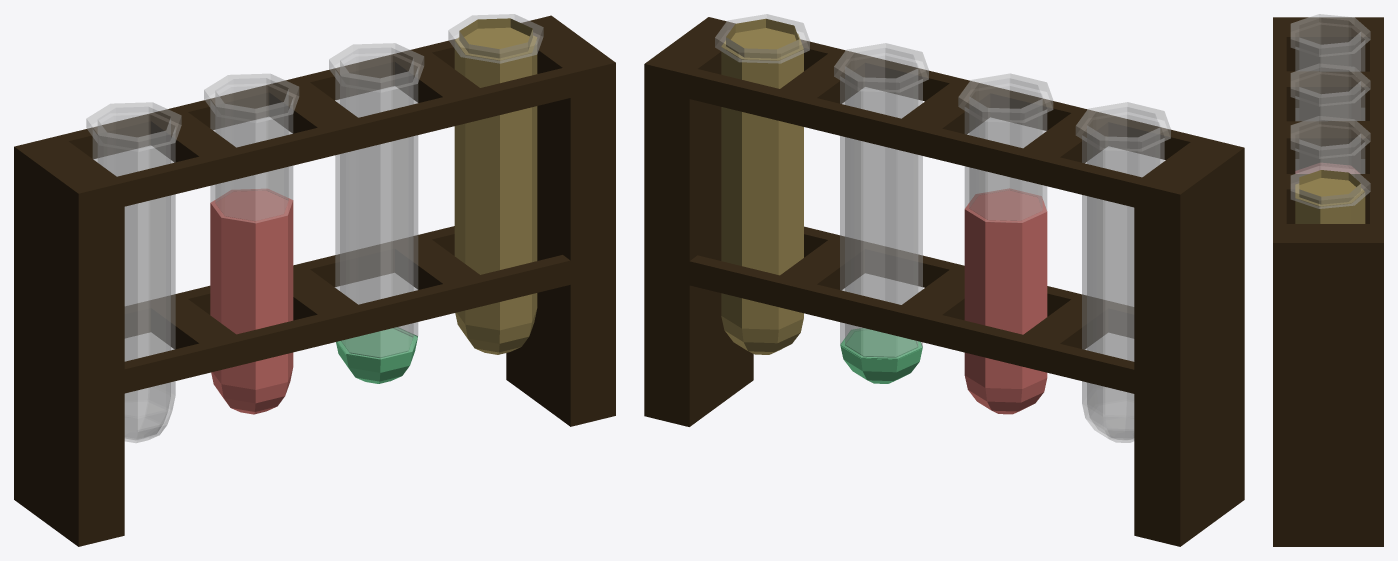
The model's file is probetas pequeñas.fbx.
3 views of the same model, side by side, from view 1: azimuth 30°, elevation 25°; view 2: azimuth 150°, elevation 25°; view 3: azimuth 270°, elevation 25° (orthographic). The views are drawn at different scales.
Visible parts, largest first — view 1: estanteria, tubo02, tubo03, tubo01, tubo04, liquido rojo, liquido verde, liquido marron; view 2: estanteria, tubo03, tubo02, tubo01, tubo04, liquido rojo, liquido verde, liquido marron; view 3: estanteria, tubo03, tubo04, tubo02, tubo01, liquido marron, liquido rojo.
Part boxes in pixels (bbox=[...]): estanteria: bbox=[14, 15, 615, 546]; tubo02: bbox=[329, 43, 424, 383]; tubo03: bbox=[204, 73, 299, 414]; tubo01: bbox=[448, 14, 543, 354]; tubo04: bbox=[86, 102, 181, 442]; liquido rojo: bbox=[211, 189, 292, 223]; liquido verde: bbox=[337, 327, 417, 359]; liquido marron: bbox=[455, 27, 537, 60]; estanteria: bbox=[644, 17, 1244, 546]; tubo03: bbox=[958, 73, 1053, 414]; tubo02: bbox=[834, 43, 928, 383]; tubo01: bbox=[715, 14, 809, 354]; tubo04: bbox=[1075, 102, 1170, 442]; liquido rojo: bbox=[965, 188, 1046, 222]; liquido verde: bbox=[841, 328, 922, 359]; liquido marron: bbox=[721, 28, 803, 60]; estanteria: bbox=[1273, 17, 1383, 546]; tubo03: bbox=[1290, 63, 1370, 173]; tubo04: bbox=[1290, 14, 1370, 120]; tubo02: bbox=[1290, 116, 1370, 173]; tubo01: bbox=[1290, 166, 1370, 223]; liquido marron: bbox=[1295, 178, 1364, 206]; liquido rojo: bbox=[1295, 163, 1359, 173].
Size of the model in its own units: 1454 by 983 by 302.
